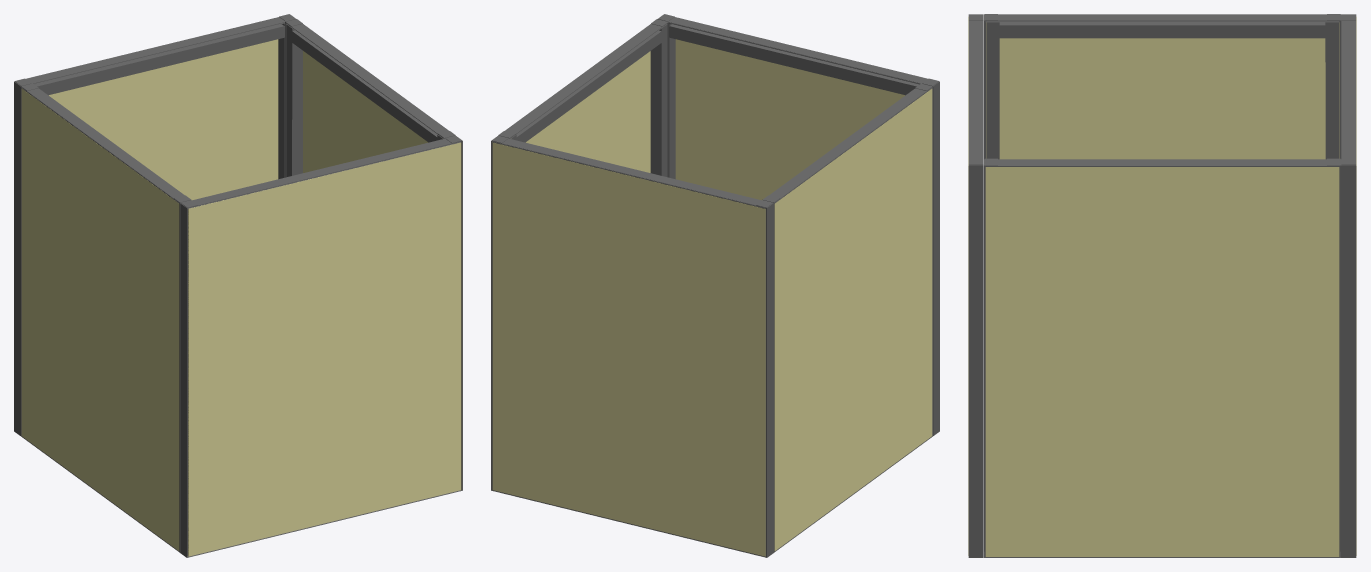
Rendered from Header Full Panels.glb.
The picture shows the model from 3 angles, left to right: view 1: azimuth 30°, elevation 25°; view 2: azimuth 150°, elevation 25°; view 3: azimuth 270°, elevation 25°; orthographic projection. The views are drawn at different scales.
Parts seen in each view (by area): view 1: Closet.001; view 2: Closet.001; view 3: Closet.001.
Boxes of the visible parts, left/top/right/bottom form: Closet.001: left=14, top=14, right=462, bottom=557; Closet.001: left=491, top=14, right=939, bottom=557; Closet.001: left=968, top=14, right=1356, bottom=557.
Size of the model in its own units: 0.9697 by 1.18 by 1.05.
